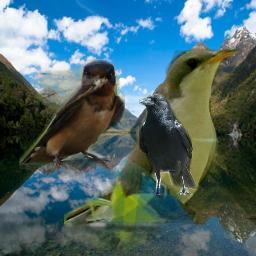Crow: (139, 94, 196, 195)
Cuckoo: (64, 43, 242, 253)
Swallow: (19, 59, 125, 179)
